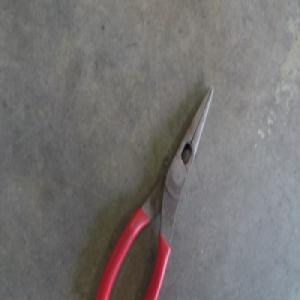Pliers: (93, 86, 214, 299)
